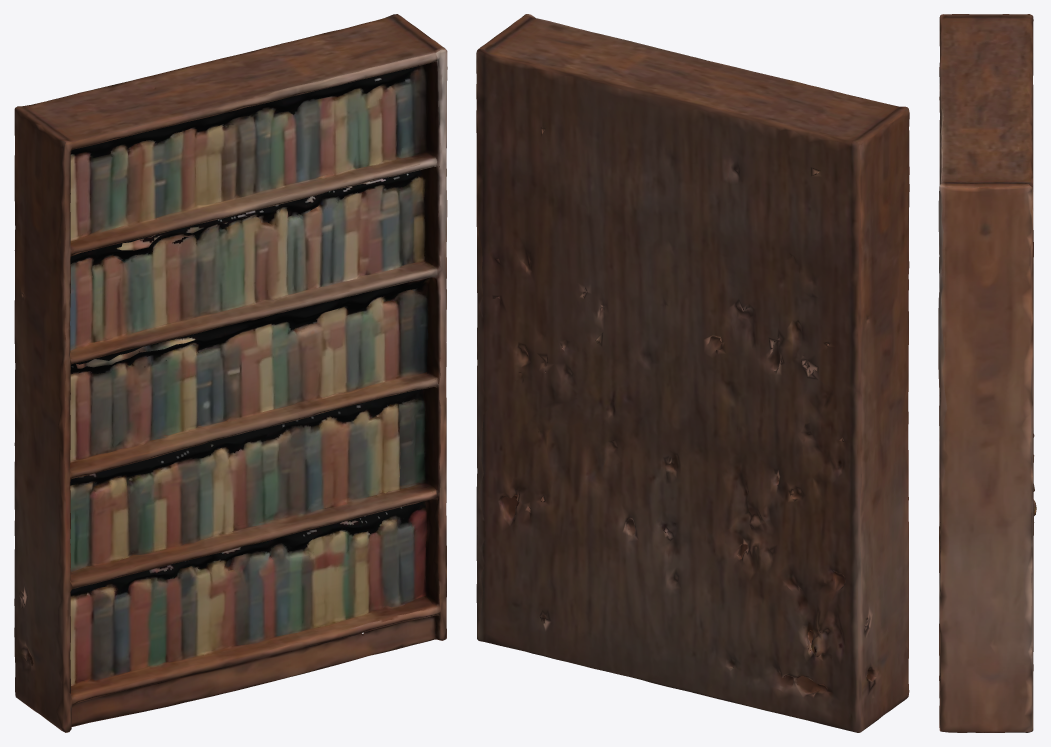
3 views of the same model, side by side, from view 1: azimuth 30°, elevation 25°; view 2: azimuth 150°, elevation 25°; view 3: azimuth 270°, elevation 25° (orthographic). The views are drawn at different scales.
Visible parts, largest first — view 1: Mesh_0; view 2: Mesh_0; view 3: Mesh_0.
Boxes of the visible parts, box(x1,y1,x2,y2) form: Mesh_0: box(14, 14, 447, 732); Mesh_0: box(476, 14, 909, 732); Mesh_0: box(938, 14, 1036, 732).
Bounding box in the file's own units: 1.26 × 1.85 × 0.3014.
Materials: 1 (1 with a texture image).
